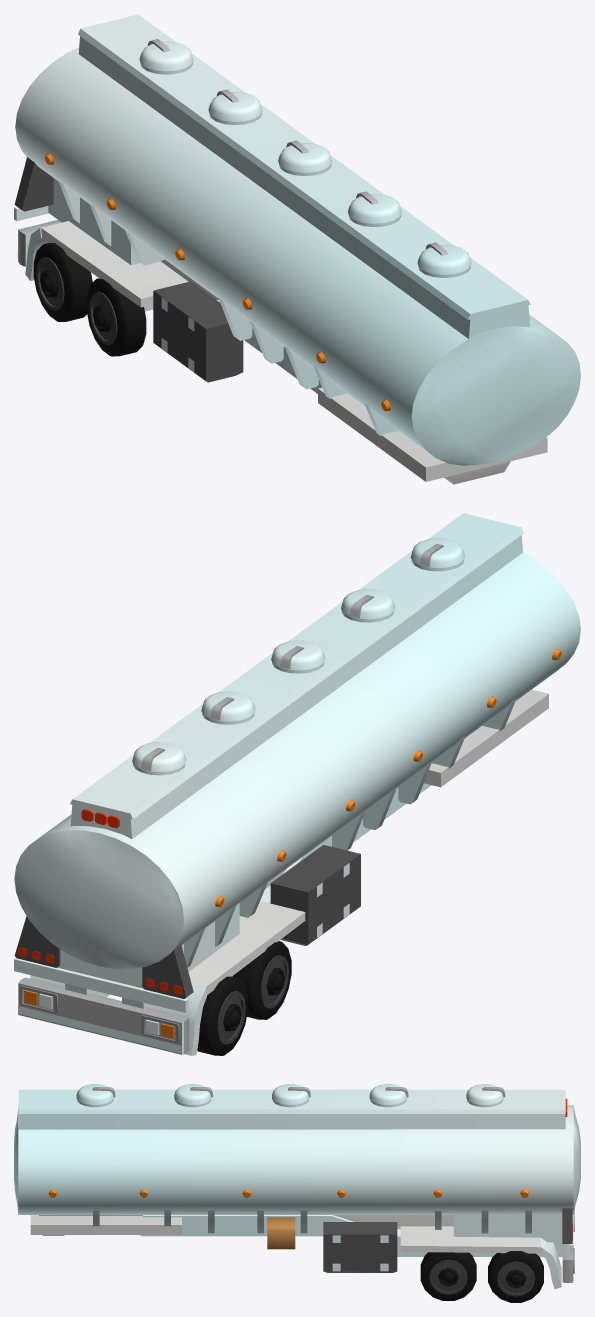
The model's file is Trailer_3_lvl3.fbx.
The picture shows the model from 3 angles, top to bottom: view 1: azimuth 30°, elevation 25°; view 2: azimuth 150°, elevation 25°; view 3: azimuth 270°, elevation 25°; orthographic projection. The views are drawn at different scales.
Parts seen in each view (by area): view 1: 2_002_001, R3_059, R3_086; view 2: 2_002_001, R3_086, R3_059; view 3: 2_002_001, R3_082, R3_056.
Part boxes in pixels (<box>): 2_002_001: <box>14,14,580,484</box>; R3_059: <box>86,278,146,356</box>; R3_086: <box>33,243,92,321</box>; 2_002_001: <box>14,513,580,1055</box>; R3_086: <box>197,976,247,1055</box>; R3_059: <box>233,941,291,1019</box>; 2_002_001: <box>14,1084,580,1288</box>; R3_082: <box>488,1251,543,1302</box>; R3_056: <box>420,1252,476,1300</box>.
Bounding box in the file's own units: 3378 × 4459 × 12272.
